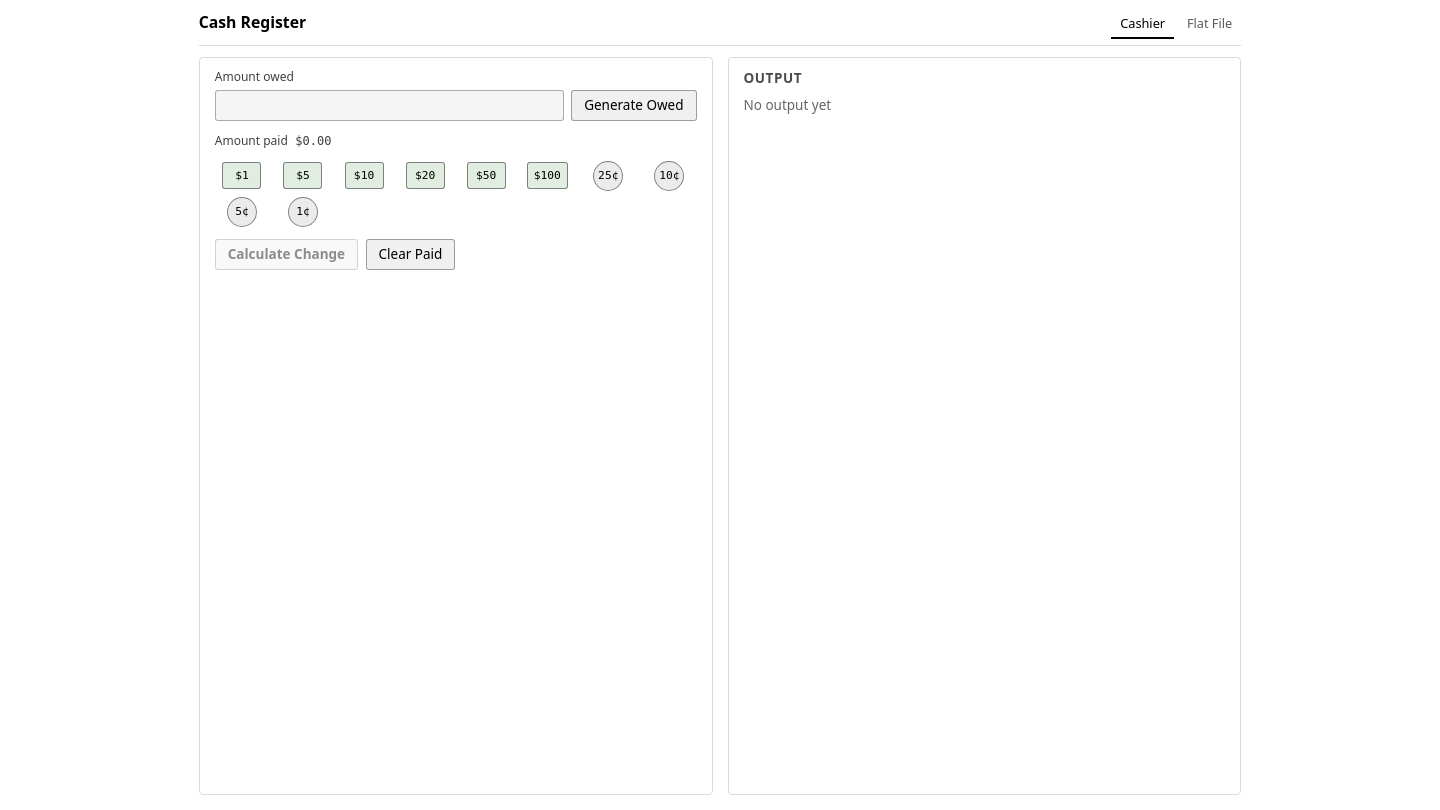
payment notices always read Added $X, even when a tap jumps past owed
Step 1. Type "5.00" into the field labelled "Amount owed" → (389, 106), box [215,90,564,121]
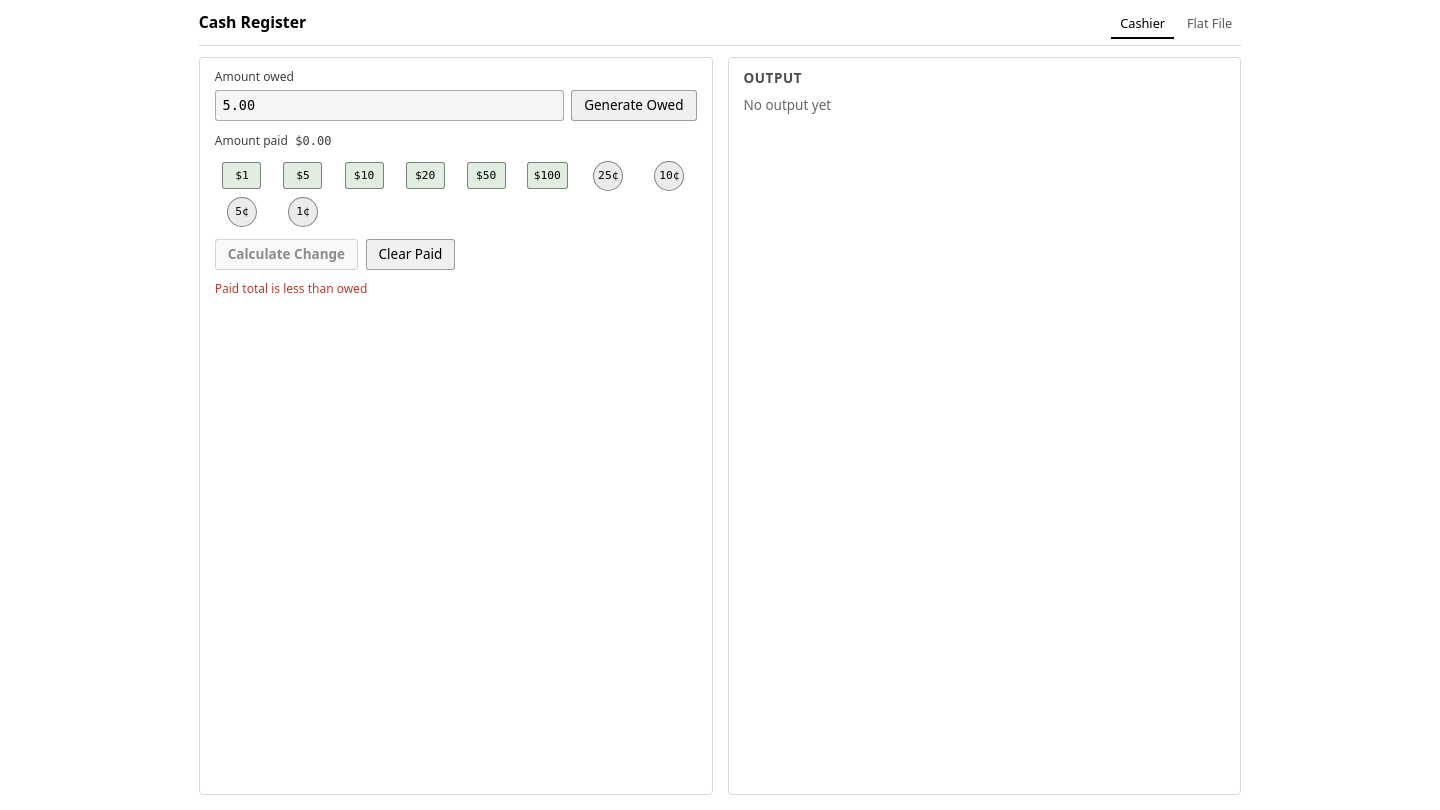
Step 2. Click the button named "Add $1" → (242, 176), box [215,161,269,191]
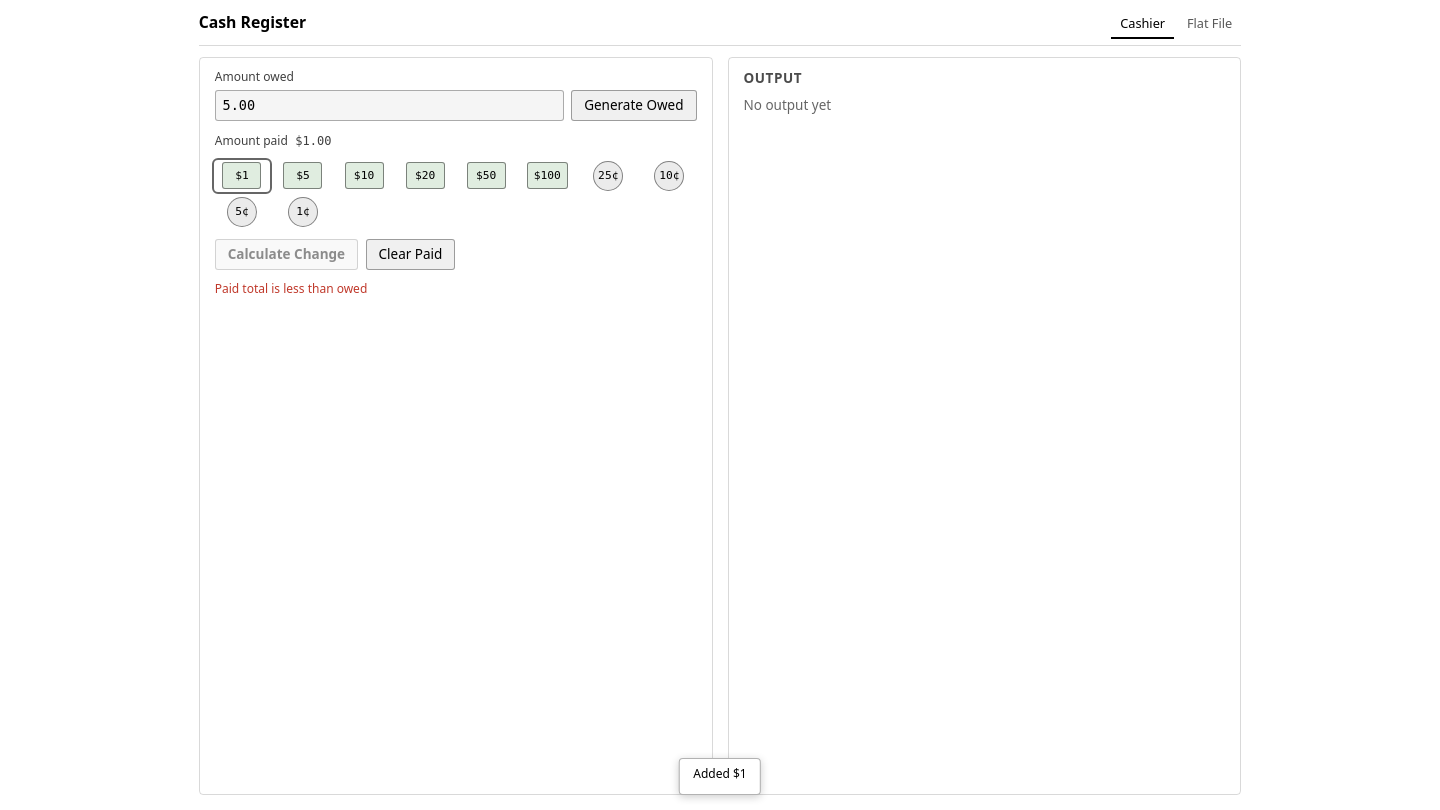
Expected: the message reads "Added $1", [693,765,747,782]
Step 3. Click the button named "Add $20" → (425, 176), box [398,161,452,191]
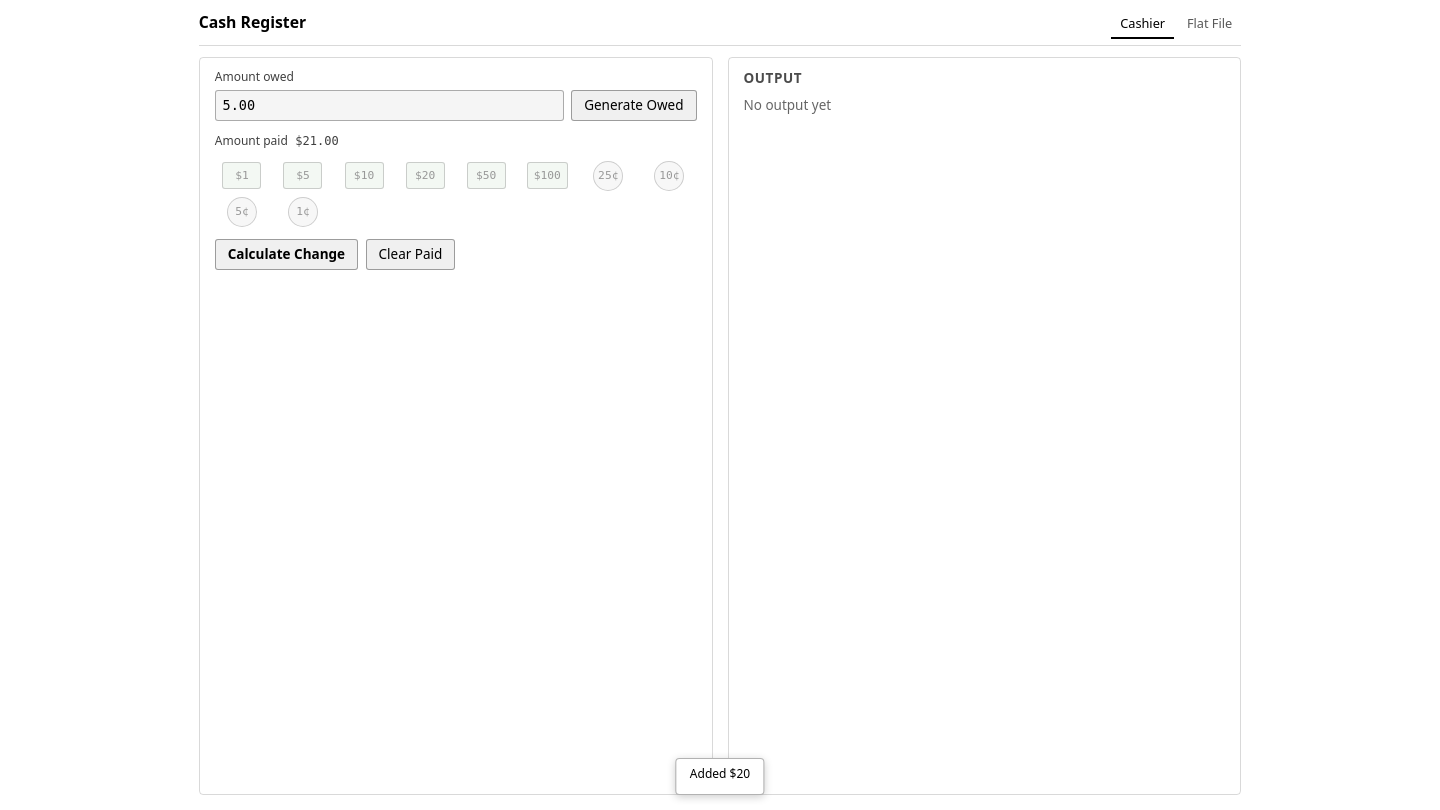
Expected: the message does not show "exceeds", [675,758,765,795]
Expected: the message reads "Added $20", [690,765,750,782]
